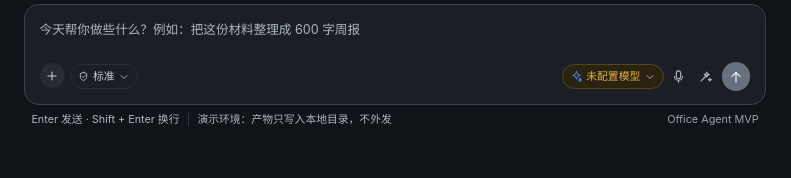
Composer 发送按钮 › 没有可用模型时门禁排在最前：哪怕一个字没写，提示的也是「缺模型」不是「缺内容」
Click the button named "发送".
click(736, 77)  # box top-left (722, 62), bottom-right (750, 91)
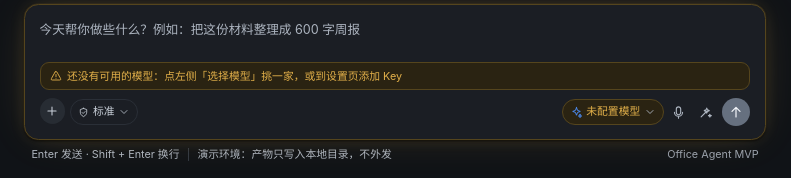
Check: the message reads "还没有可用的模型：点左侧「选择模型」挑一家，或到设置页添加 Key", box top-left (67, 70), bottom-right (402, 83)
